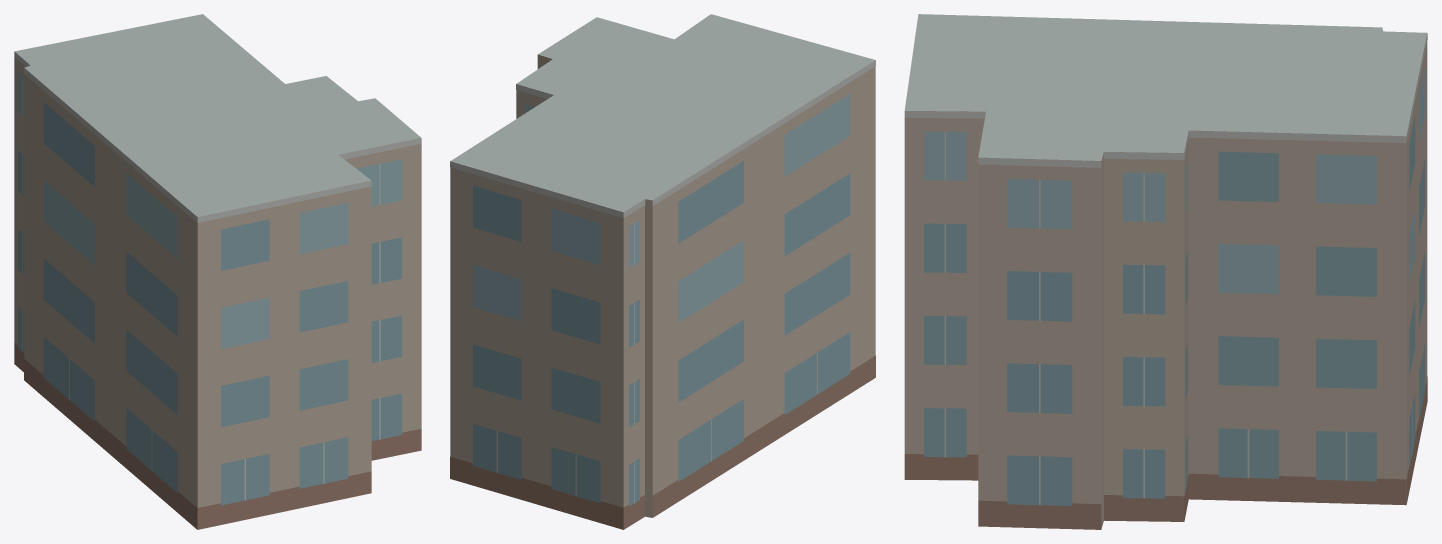
File: survey-upis-32760774.glb
3 renders of one model, left to right at view 1: azimuth 30°, elevation 25°; view 2: azimuth 150°, elevation 25°; view 3: azimuth 270°, elevation 25°, orthographic. The views are drawn at different scales.
Visible parts, largest first — view 1: survey-upis-32760774.tmp; view 2: survey-upis-32760774.tmp; view 3: survey-upis-32760774.tmp.
Boxes of the visible parts, box(x1,y1,x2,y2) form: survey-upis-32760774.tmp: box(14, 14, 421, 529); survey-upis-32760774.tmp: box(450, 14, 875, 529); survey-upis-32760774.tmp: box(904, 14, 1427, 529).
Bounding box in the file's own units: 11.03 × 12.9 × 16.58.
